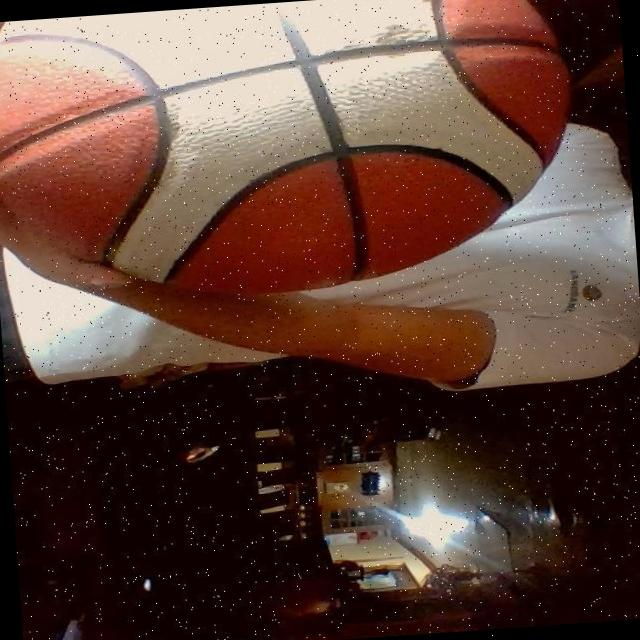ball: (0, 0, 585, 317)
